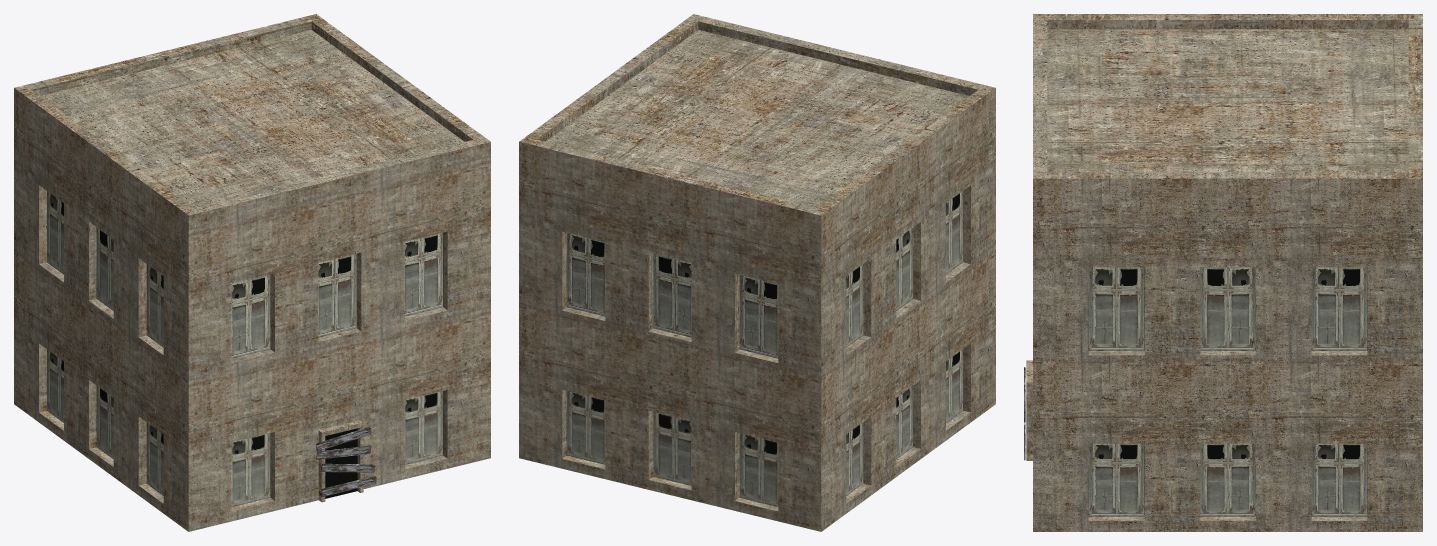
The model's file is building_05.fbx.
3 views of the same model, side by side, from view 1: azimuth 30°, elevation 25°; view 2: azimuth 150°, elevation 25°; view 3: azimuth 270°, elevation 25° (orthographic). The views are drawn at different scales.
Parts seen in each view (by area): view 1: building_05; view 2: building_05; view 3: building_05.
Part boxes in pixels (<box>): building_05: <box>14,14,490,531</box>; building_05: <box>519,14,995,531</box>; building_05: <box>1024,14,1422,531</box>.
Bounding box in the file's own units: 11.24 × 11.24 × 11.5.
